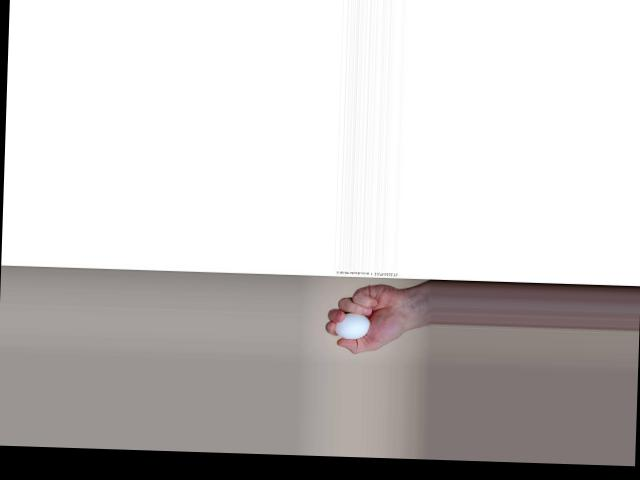egg: (335, 312, 371, 339)
